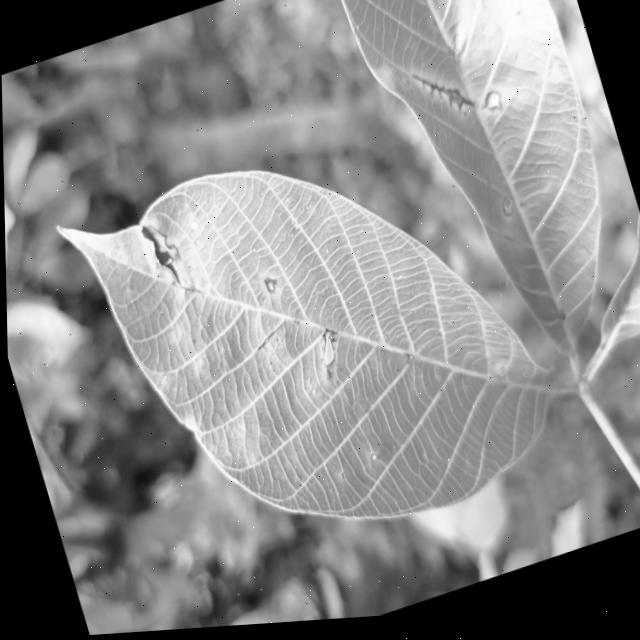Colletotrichum: (306, 391, 314, 400), (281, 361, 287, 370)
Corynespora: (410, 65, 475, 134), (311, 331, 348, 390), (248, 326, 285, 356)
Leaf-Blight: (136, 216, 191, 303), (483, 97, 500, 115)
